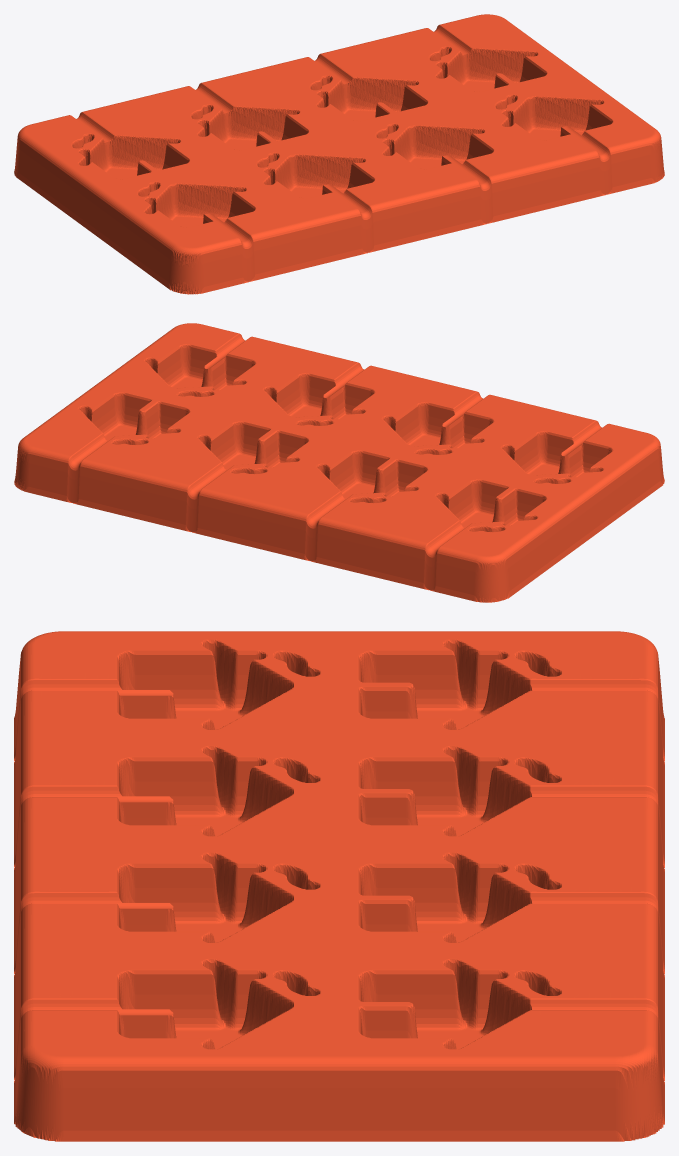
Rendered from mold.glb.
3 renders of one model, top to bottom at view 1: azimuth 30°, elevation 25°; view 2: azimuth 150°, elevation 25°; view 3: azimuth 270°, elevation 25°, orthographic. The views are drawn at different scales.
Visible parts, largest first — view 1: geometry_0; view 2: geometry_0; view 3: geometry_0.
Part boxes in pixels (bbox=[...]): geometry_0: bbox=[14, 14, 664, 294]; geometry_0: bbox=[14, 323, 664, 602]; geometry_0: bbox=[14, 631, 664, 1141].
Size of the model in its own units: 0.1907 by 0.0155 by 0.119.
